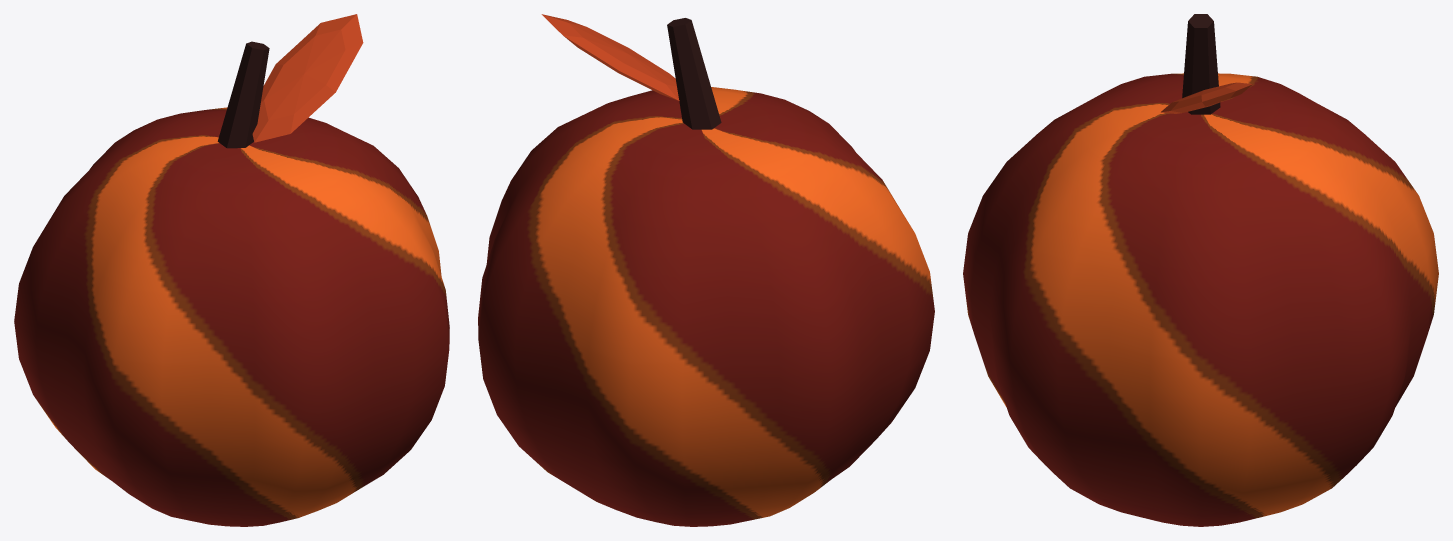
File: Fruit_MaguMagu.fbx
3 renders of one model, left to right at view 1: azimuth 30°, elevation 25°; view 2: azimuth 150°, elevation 25°; view 3: azimuth 270°, elevation 25°, orthographic. The views are drawn at different scales.
Parts seen in each view (by area): view 1: Fruit_MaguMagu; view 2: Fruit_MaguMagu; view 3: Fruit_MaguMagu.
Part boxes in pixels (<box>): Fruit_MaguMagu: <box>14,14,449,526</box>; Fruit_MaguMagu: <box>478,14,934,526</box>; Fruit_MaguMagu: <box>963,14,1438,526</box>.
Size of the model in its own units: 1.63 by 1.9 by 1.65.
1 material, 1 textured.
